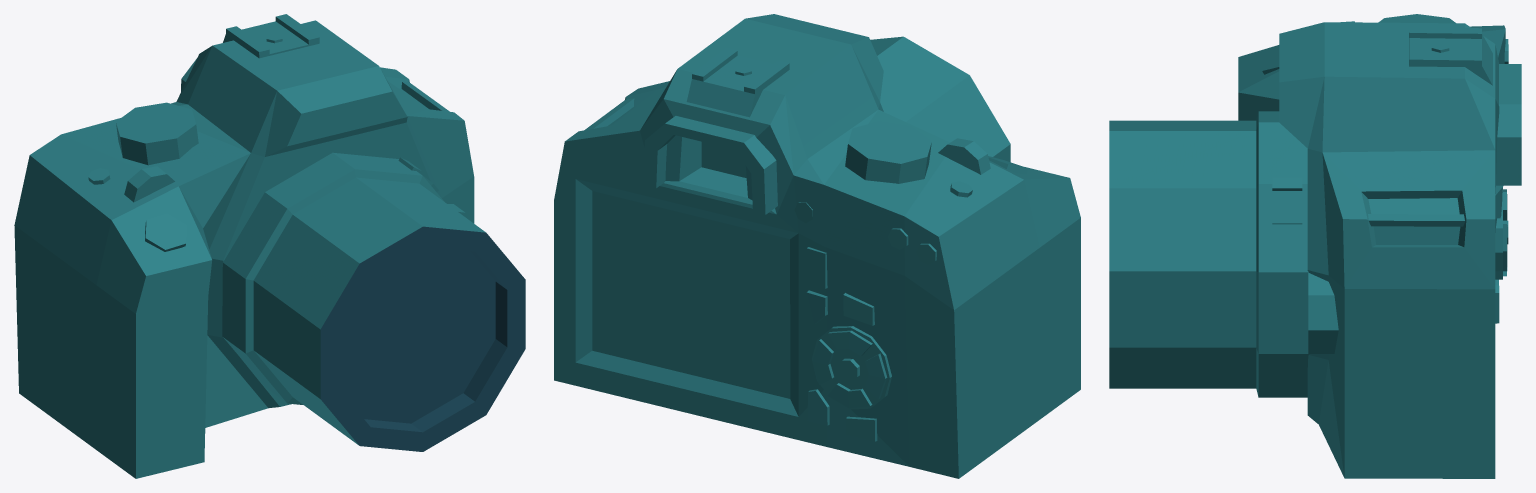
Rendered from compact_camera.glb.
3 views of the same model, side by side, from view 1: azimuth 30°, elevation 25°; view 2: azimuth 150°, elevation 25°; view 3: azimuth 270°, elevation 25° (orthographic). The views are drawn at different scales.
Visible parts, largest first — view 1: compact_camera; view 2: compact_camera; view 3: compact_camera.
Boxes of the visible parts, bbox=[...] form: compact_camera: bbox=[14, 14, 525, 478]; compact_camera: bbox=[554, 14, 1080, 478]; compact_camera: bbox=[1109, 14, 1521, 478].
Bounding box in the file's own units: 0.18 × 0.1423 × 0.151.
